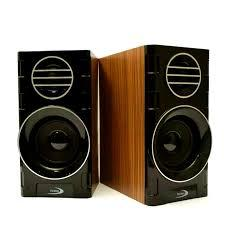speaker: (105, 46, 209, 205), (17, 49, 99, 198)
